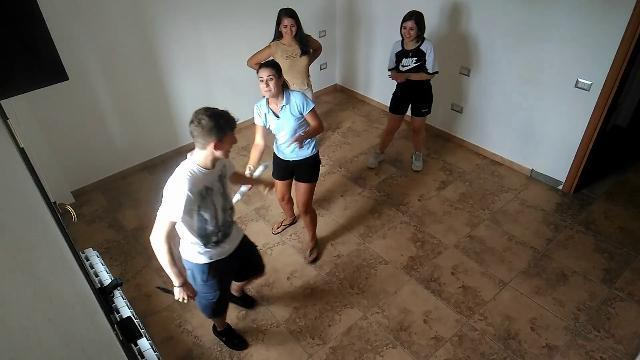non-violence: (363, 10, 439, 174), (248, 6, 324, 102)
violence: (148, 59, 326, 352)
